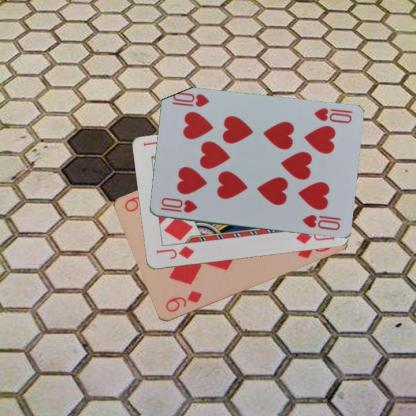10h: (157, 195, 198, 214), (311, 106, 352, 125)
9d: (162, 288, 204, 314)
Jd: (153, 243, 195, 261)
